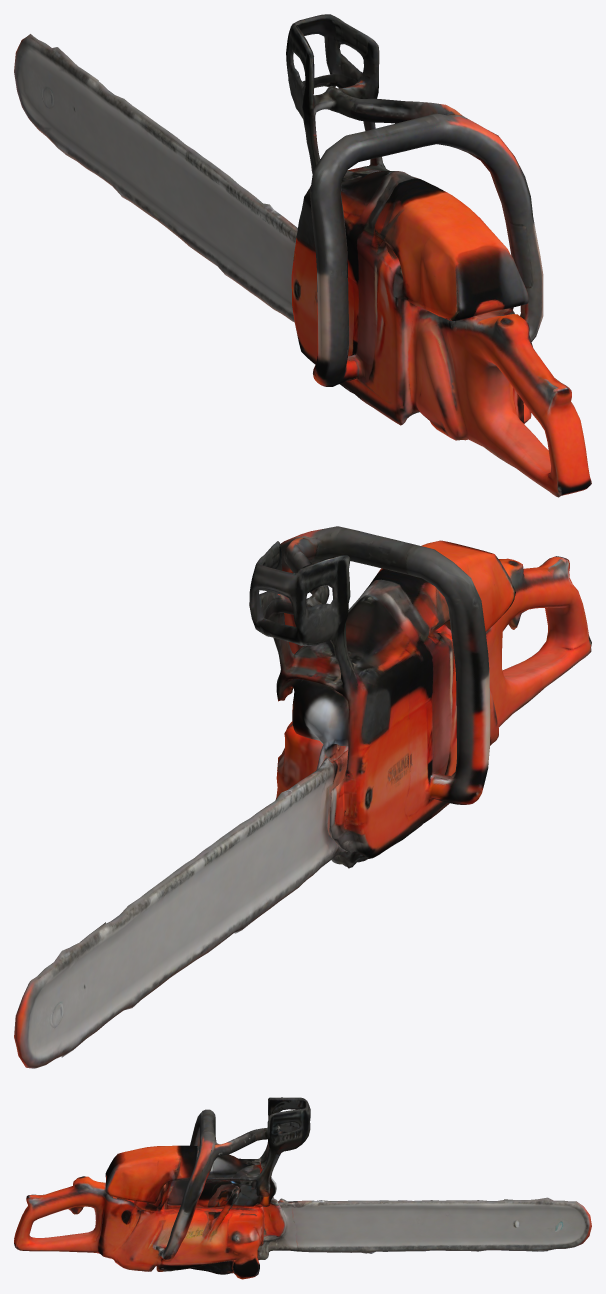
Rendered from saw.glb.
3 views of the same model, one above another, from view 1: azimuth 30°, elevation 25°; view 2: azimuth 150°, elevation 25°; view 3: azimuth 270°, elevation 25° (orthographic). The views are drawn at different scales.
Bounding box in the file's own units: 0.439 × 0.6328 × 2.
1 material, 1 textured.
